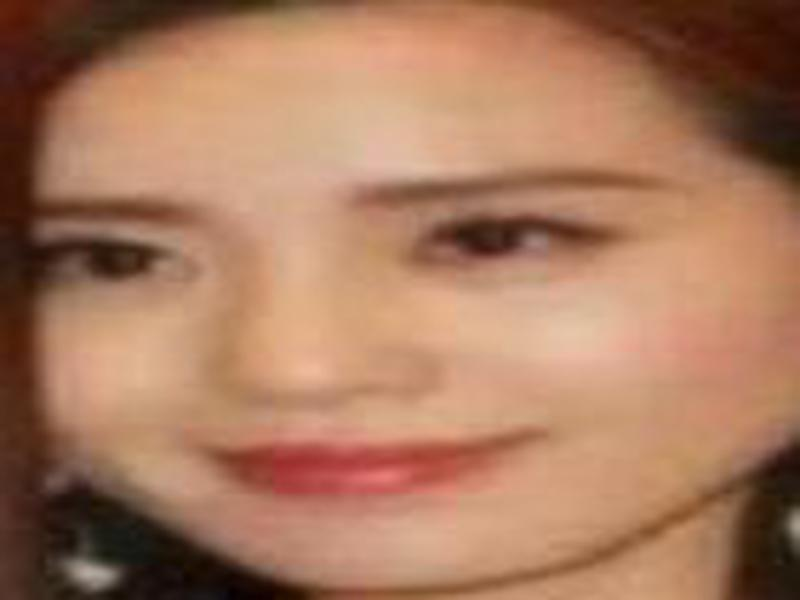without_mask: (33, 51, 783, 585)
